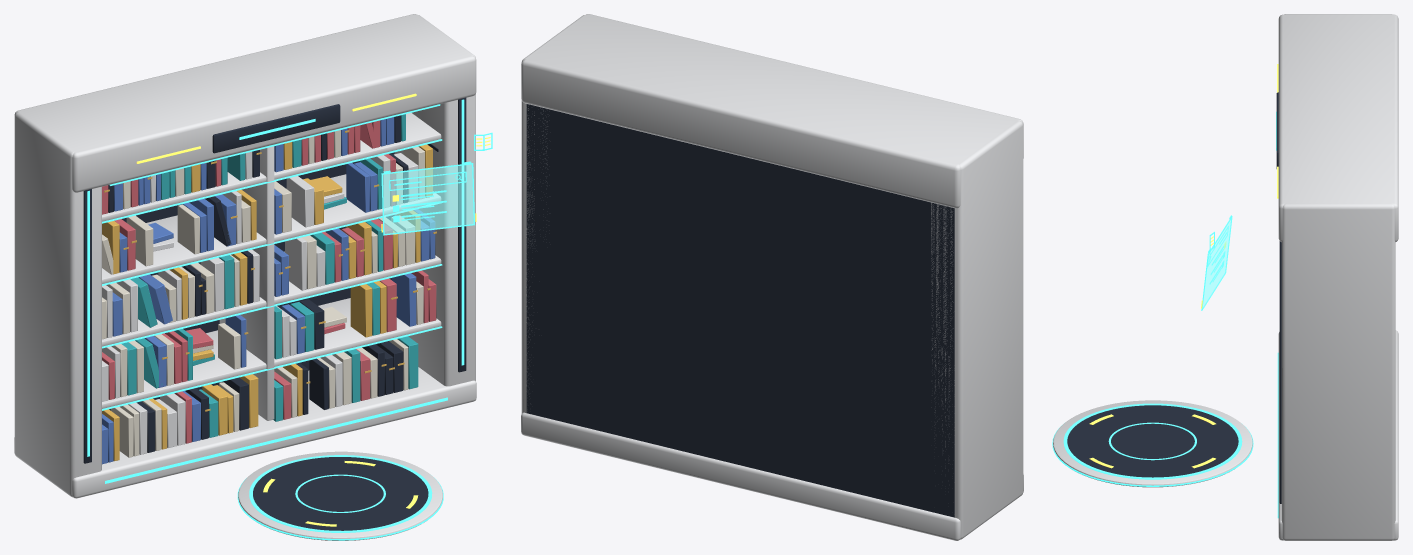
File: bookshelf.glb
3 renders of one model, left to right at view 1: azimuth 30°, elevation 25°; view 2: azimuth 150°, elevation 25°; view 3: azimuth 270°, elevation 25°, orthographic. The views are drawn at different scales.
Visible parts, largest first — view 1: bookshelf; view 2: bookshelf; view 3: bookshelf.
Part boxes in pixels (<box>): bookshelf: <box>14,14,492,540</box>; bookshelf: <box>521,14,1023,540</box>; bookshelf: <box>1052,14,1398,540</box>.
Bounding box in the file's own units: 3.2 × 2.6 × 2.42.
